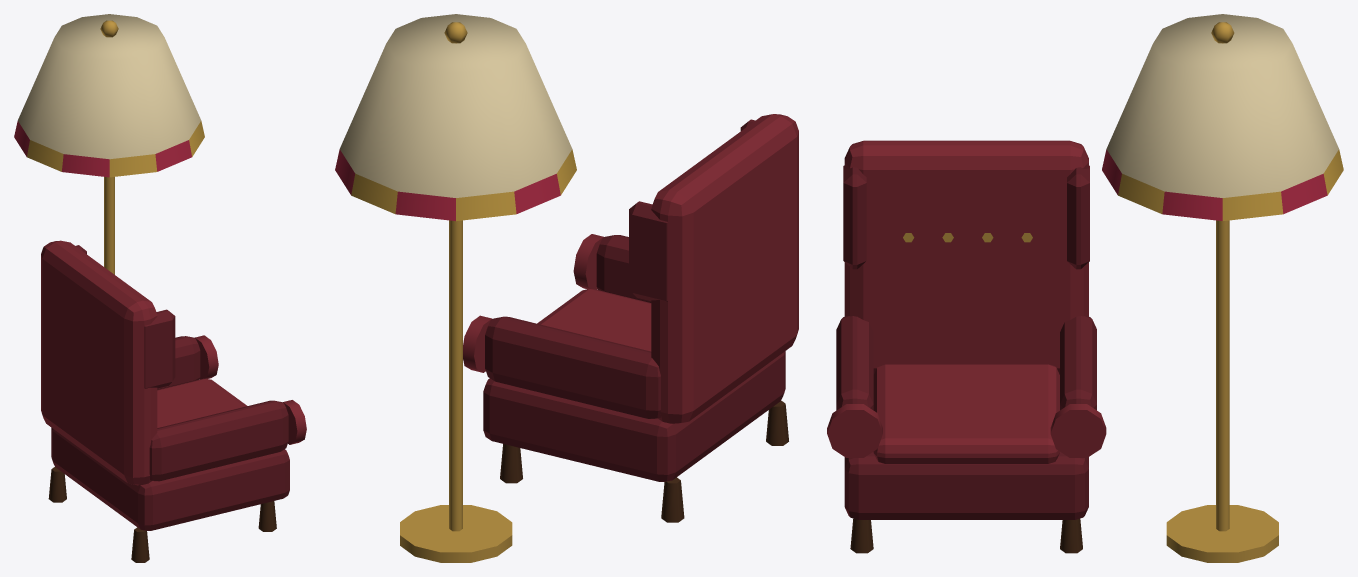
Rendered from library-deco3.glb.
3 renders of one model, left to right at view 1: azimuth 30°, elevation 25°; view 2: azimuth 150°, elevation 25°; view 3: azimuth 270°, elevation 25°, orthographic. The views are drawn at different scales.
Parts seen in each view (by area): view 1: library-deco3; view 2: library-deco3; view 3: library-deco3.
Part boxes in pixels (x1,y1,x2,y2): library-deco3: [14, 14, 306, 562]; library-deco3: [335, 14, 798, 562]; library-deco3: [827, 14, 1343, 562].
Size of the model in its own units: 1.32 by 2.45 by 2.22.
